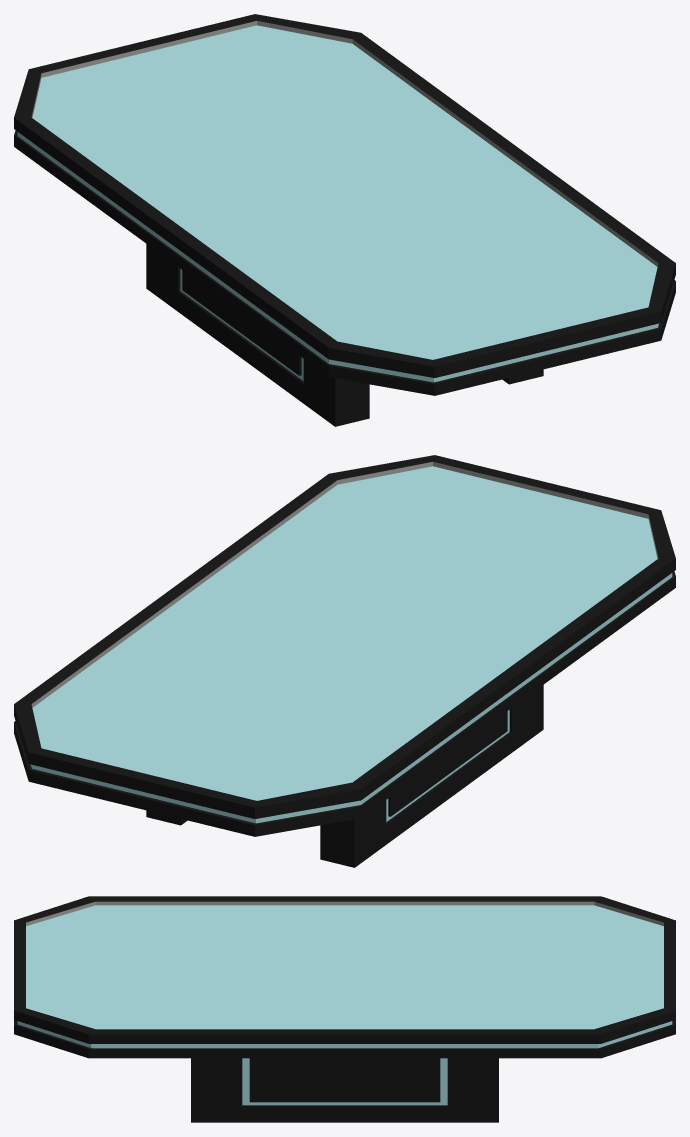
File: table.fbx
3 views of the same model, one above another, from view 1: azimuth 30°, elevation 25°; view 2: azimuth 150°, elevation 25°; view 3: azimuth 270°, elevation 25° (orthographic). The views are drawn at different scales.
Parts seen in each view (by area): view 1: table; view 2: table; view 3: table.
Boxes of the visible parts, bbox=[...] form: table: bbox=[14, 14, 675, 426]; table: bbox=[14, 455, 675, 867]; table: bbox=[14, 896, 675, 1122].
Size of the model in its own units: 7.28 by 14.75 by 2.85.
